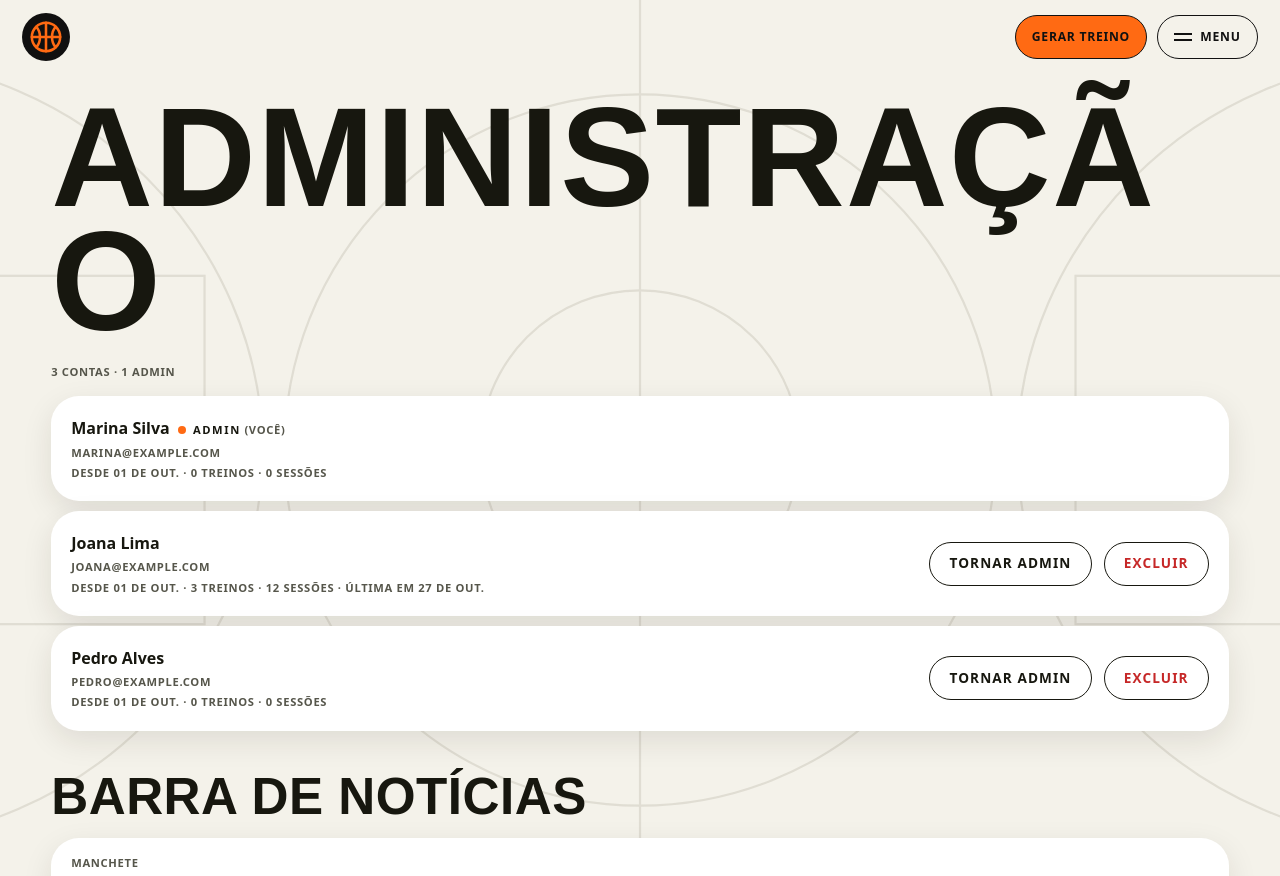
Test case: Painel admin › só exclui a conta depois de confirmar
What coordinates should you click on to do the following:
click the button "Excluir" in the row of "Pedro Alves"
I would click on:
 (1156, 678)
Its box is x1=1104 y1=656 x2=1209 y2=700.
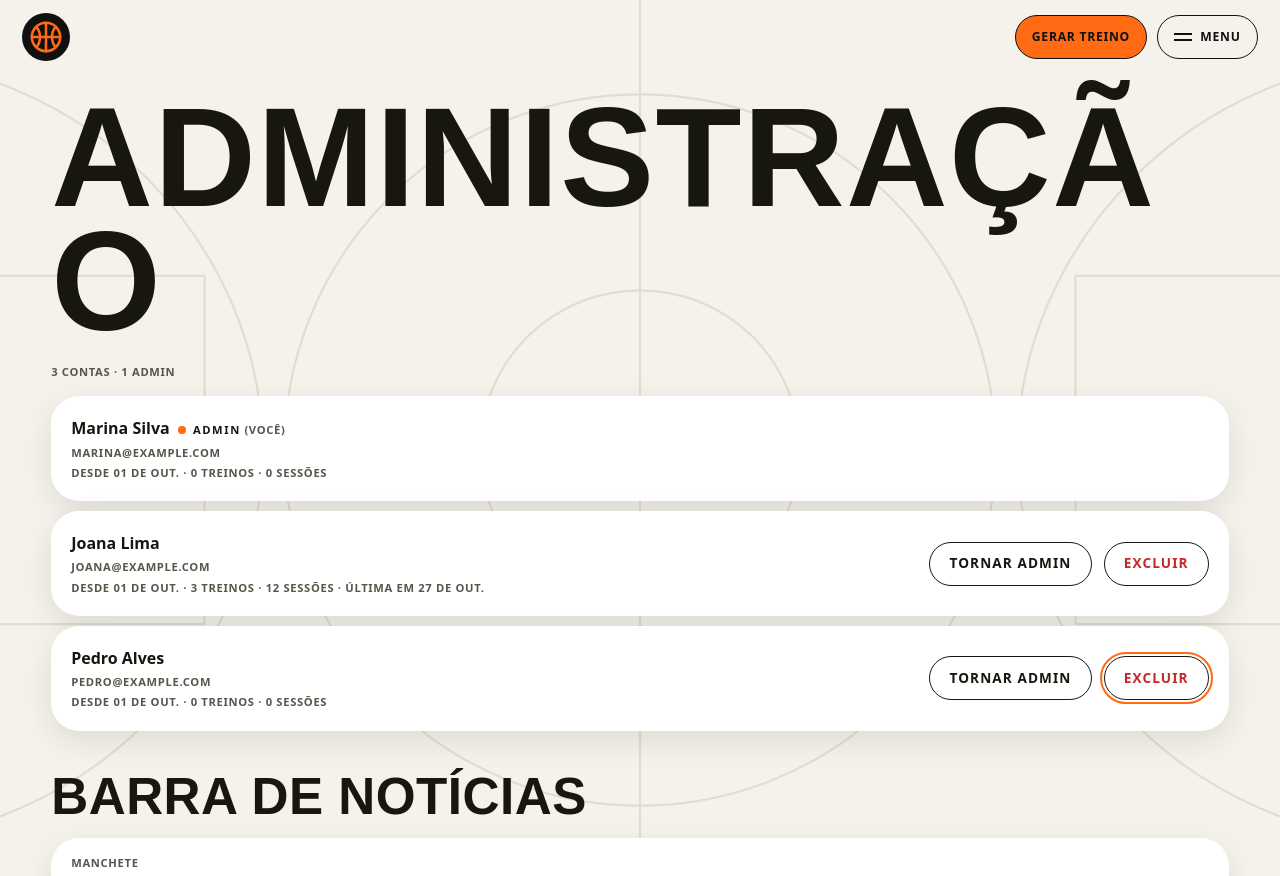
What coordinates should you click on to do the following:
click the button "Excluir" in the row of "Pedro Alves"
I would click on:
 (1156, 678)
Its box is x1=1104 y1=656 x2=1209 y2=700.
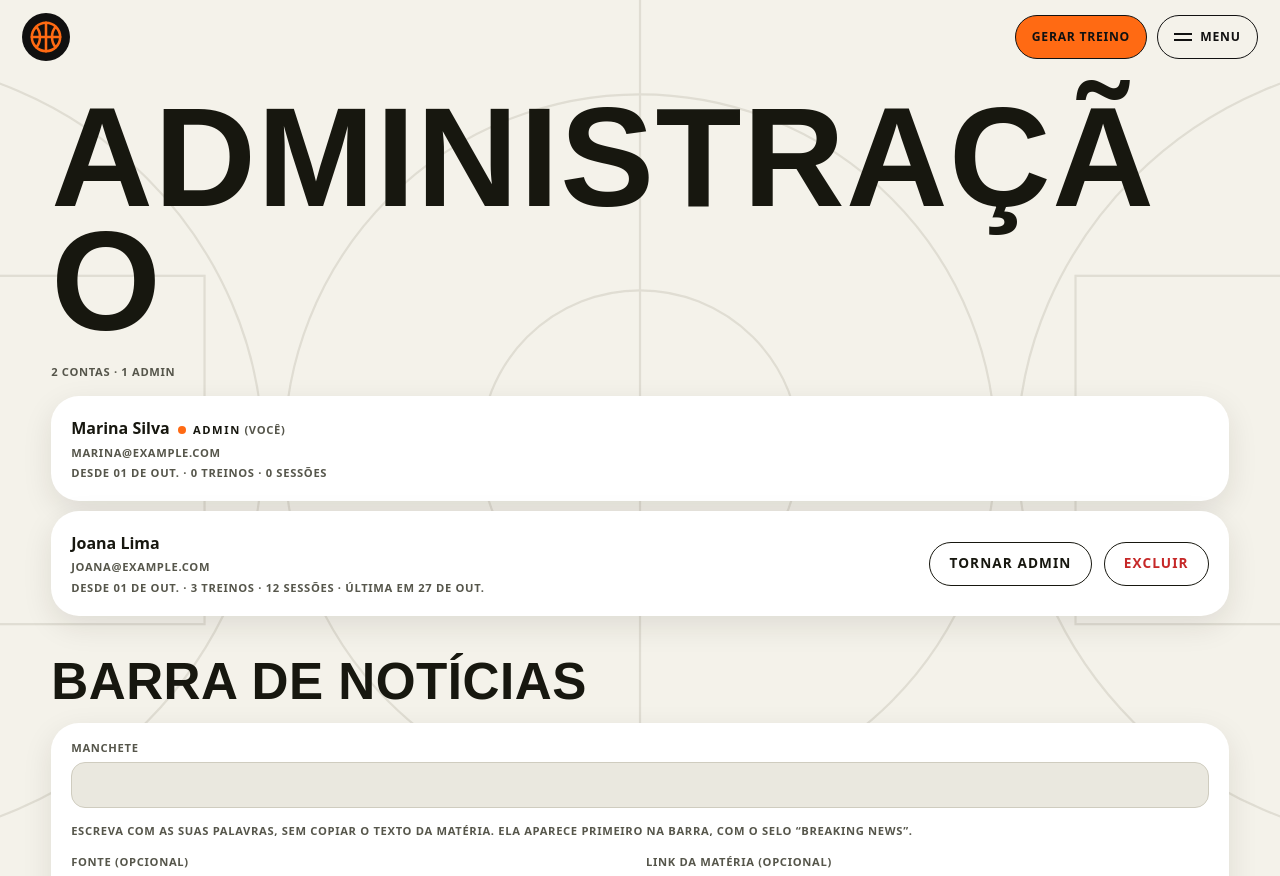
expect the text "Pedro Alves" is gone: met
expect the text "2 contas · 1 admin" is shown: met, box x1=51 y1=364 x2=175 y2=379
